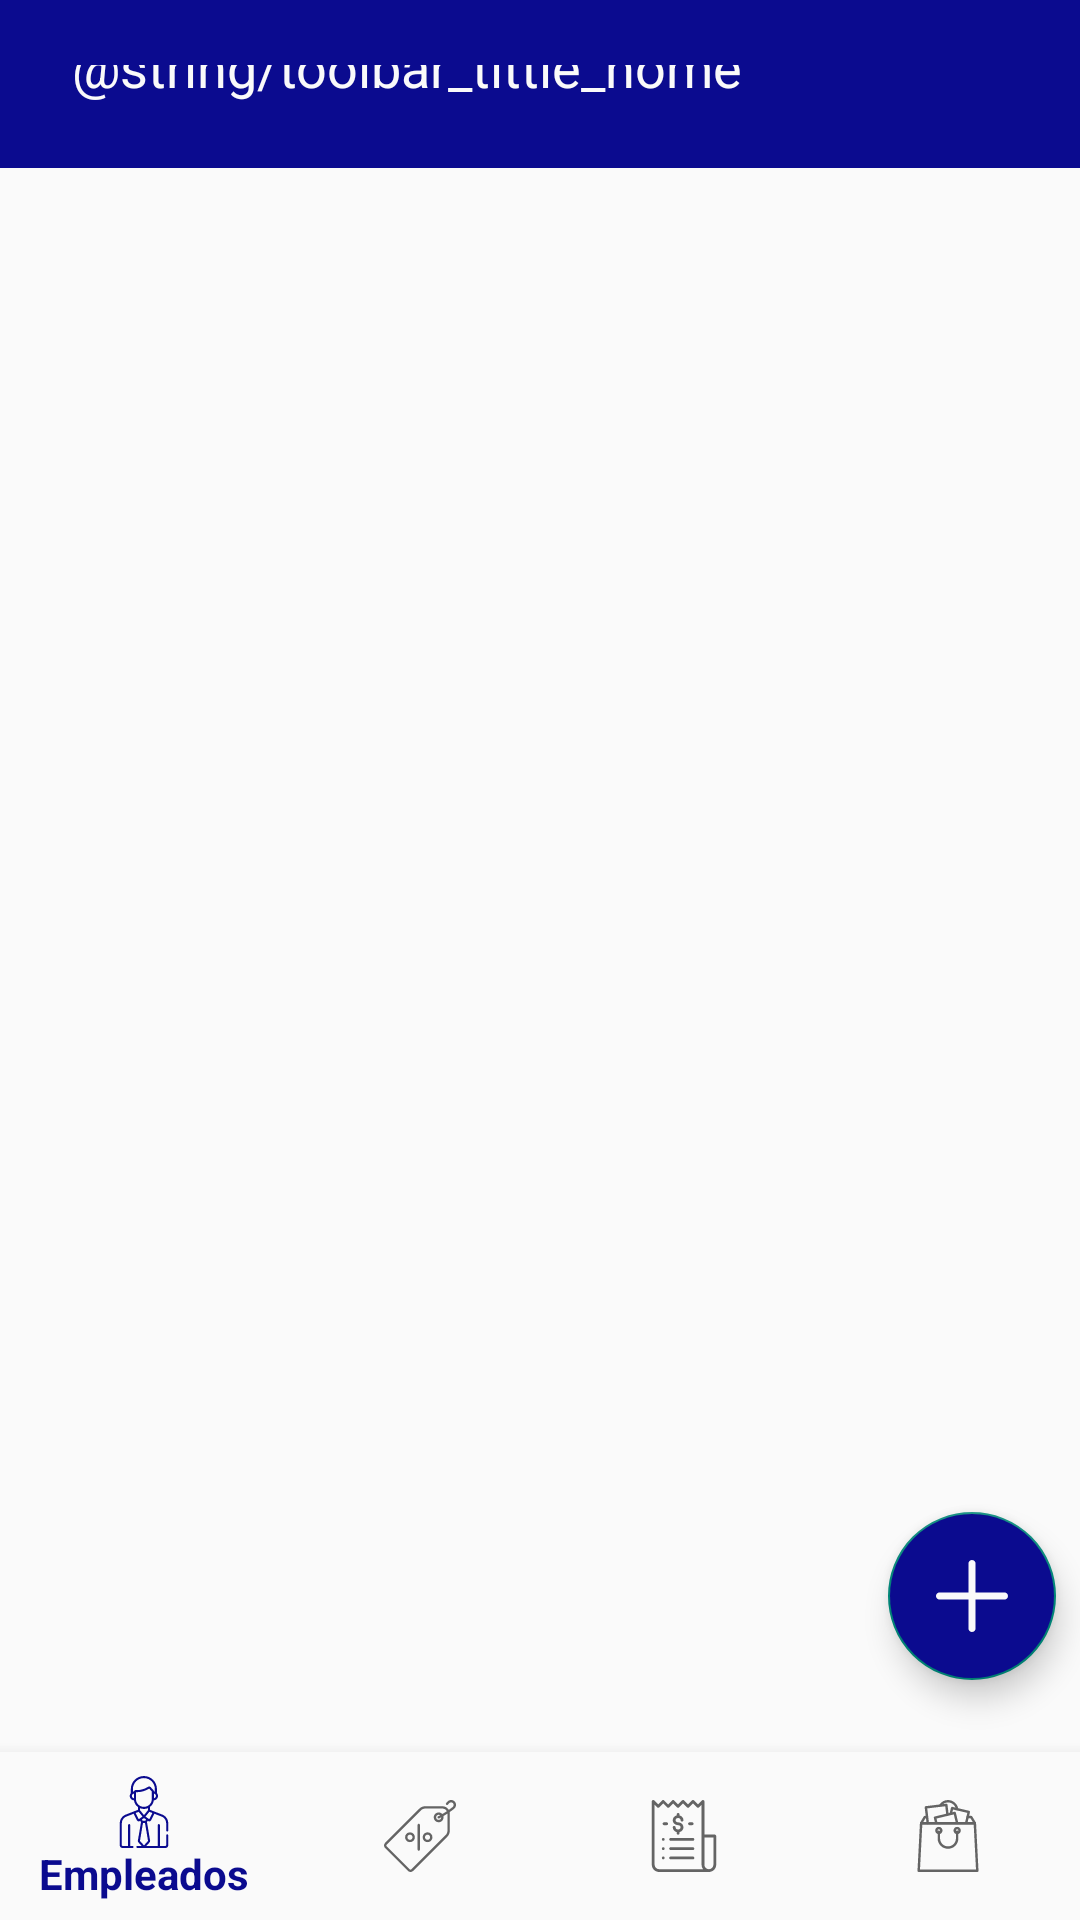

Screen size 1080px x 1920px. Icon name, then its box in pixels as box=[x1, y1, x2, y2]:
add: box=[888, 1512, 1056, 1680]
